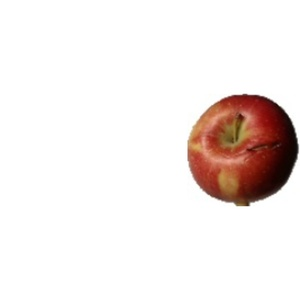maçã braeburn: (186, 94, 300, 204)
